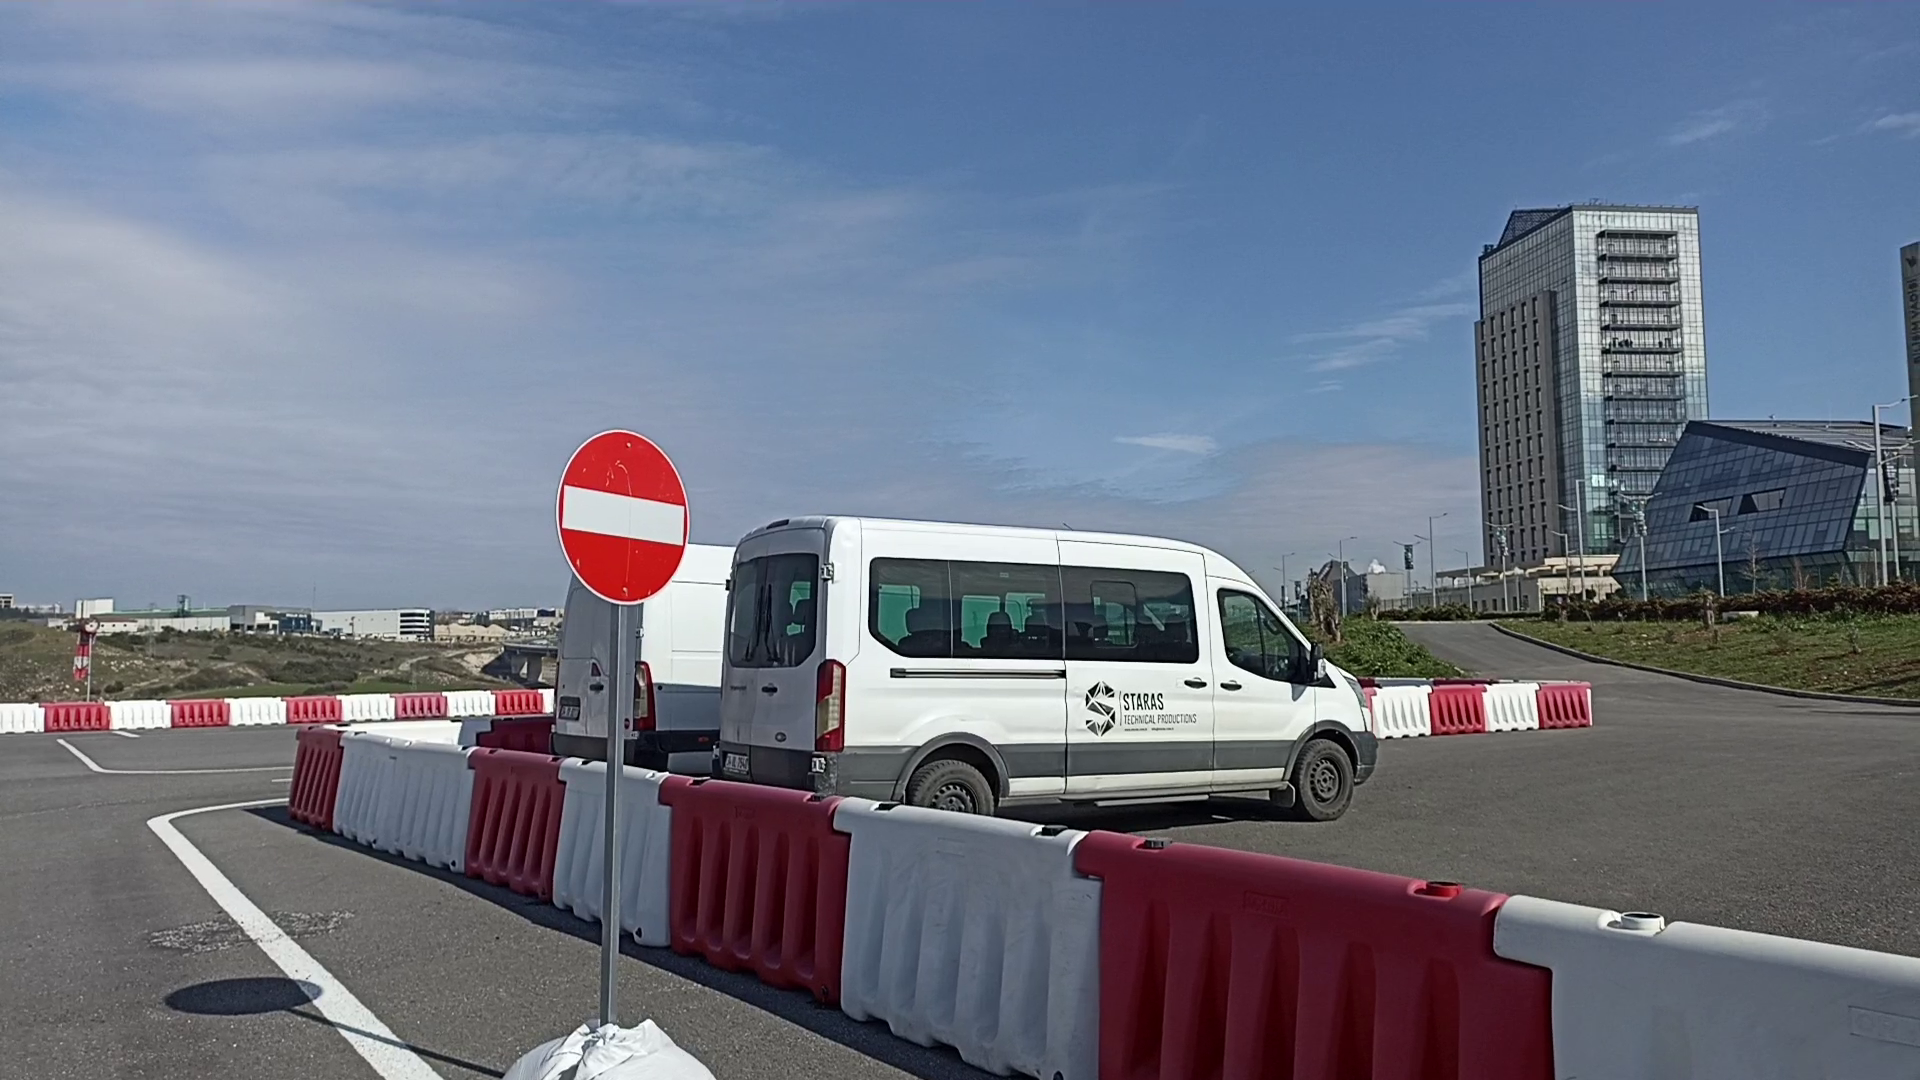noentryway: (553, 425, 691, 611)
